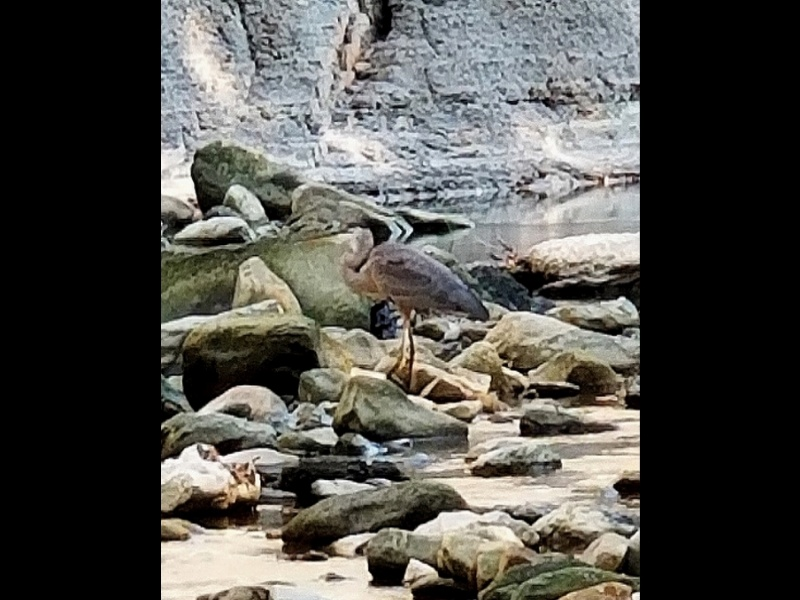heron: (294, 221, 491, 388)
